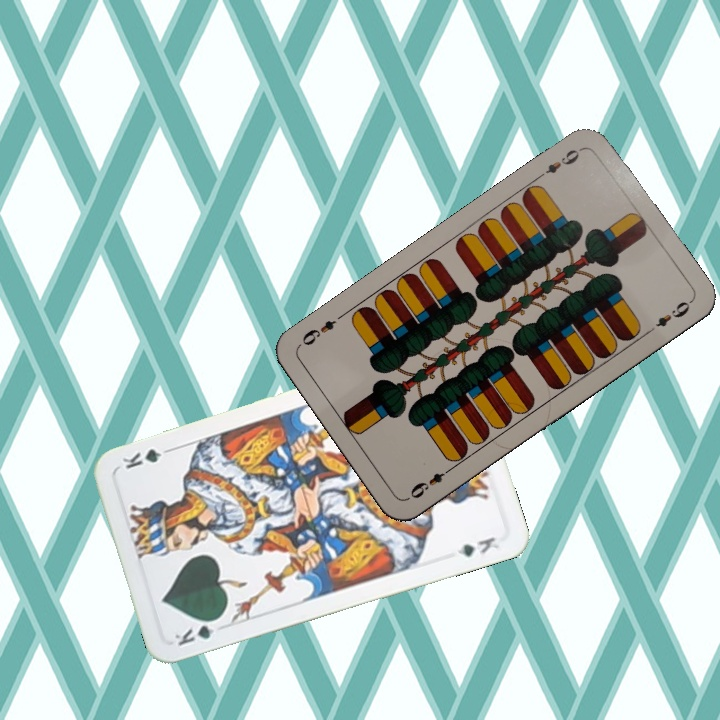E9: (533, 143, 586, 182), (404, 463, 455, 502)
GK: (170, 613, 224, 649)
